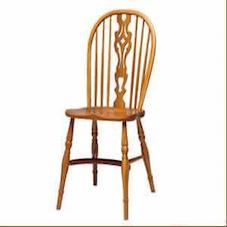chair: (30, 4, 184, 223)
